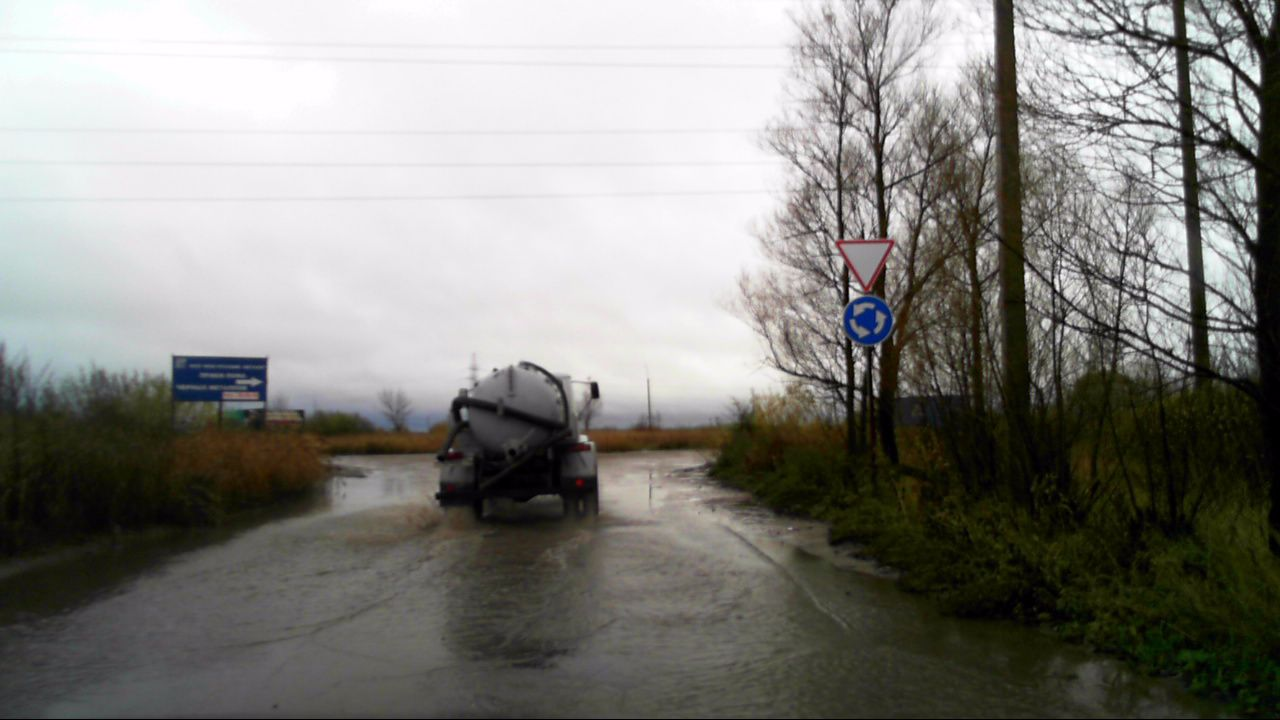Round-About: (843, 296, 895, 346)
